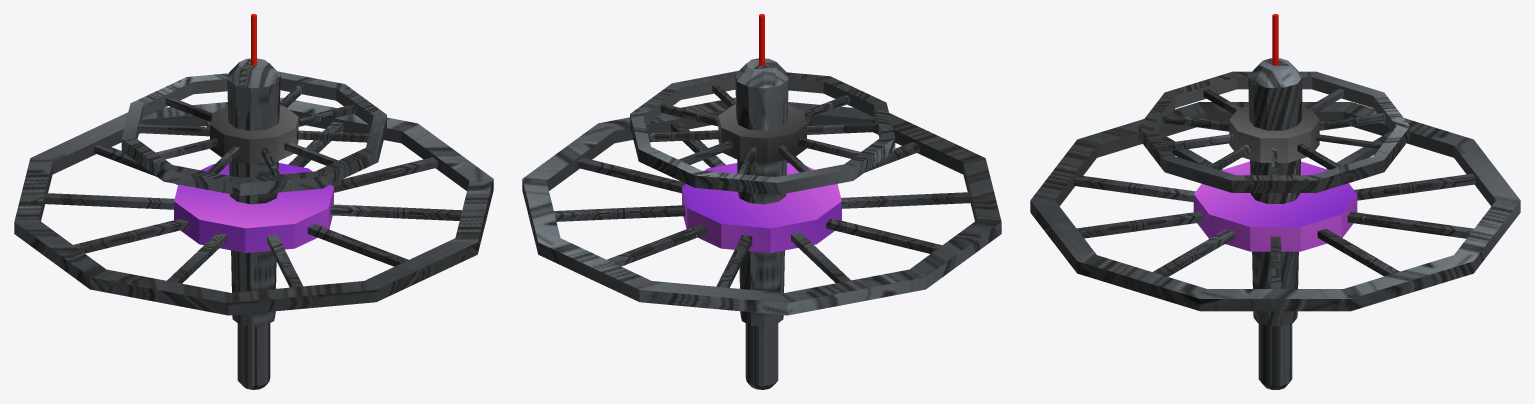
Rendered from spacestation.glb.
3 views of the same model, side by side, from view 1: azimuth 30°, elevation 25°; view 2: azimuth 150°, elevation 25°; view 3: azimuth 270°, elevation 25° (orthographic).
Visible parts, largest first — view 1: Cylinder; view 2: Cylinder; view 3: Cylinder.
Boxes of the visible parts, x1,y1,x2,y2 form: Cylinder: (14, 14, 493, 389); Cylinder: (522, 14, 1001, 389); Cylinder: (1030, 14, 1520, 389).
Bounding box in the file's own units: 17.12 × 15 × 18.
Materials: 1 (1 with a texture image).
